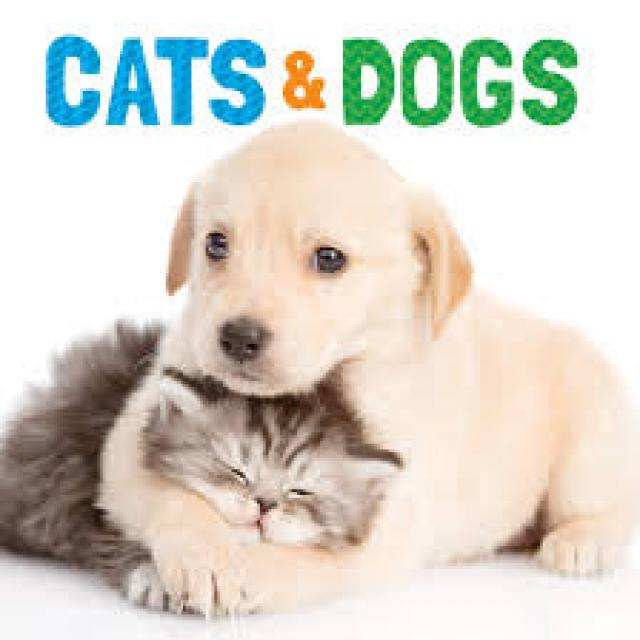cat: (3, 321, 405, 617)
dog: (156, 130, 640, 560)
